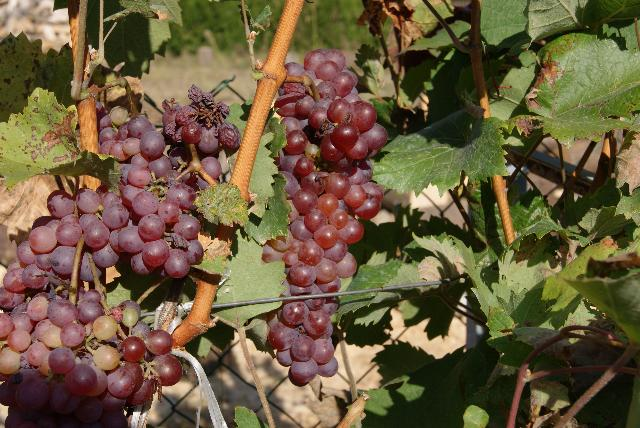grapes: (261, 49, 388, 386), (0, 165, 204, 312), (0, 290, 181, 425), (99, 106, 185, 185), (189, 90, 240, 160)
